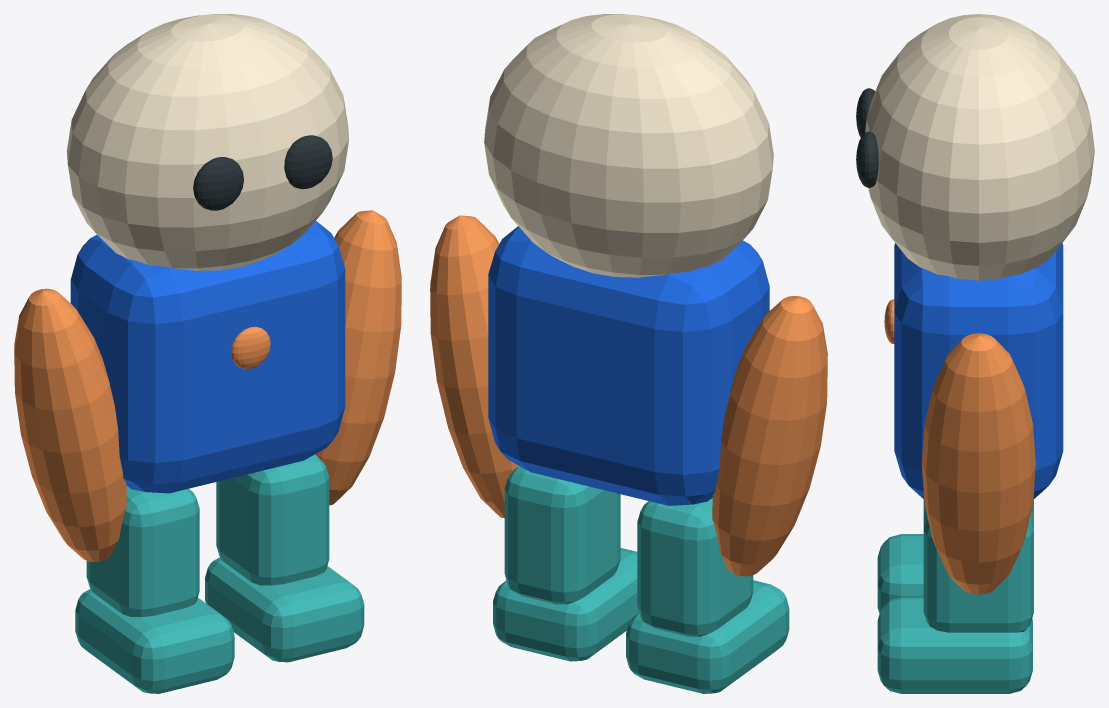
File: revision-model.glb
3 views of the same model, side by side, from view 1: azimuth 30°, elevation 25°; view 2: azimuth 150°, elevation 25°; view 3: azimuth 270°, elevation 25° (orthographic). The views are drawn at different scales.
Visible parts, largest first — view 1: Round cream head, Rounded vivid blue torso, Left long orange arm, Right long orange arm, Right sturdy leg, Left broad foot, Left sturdy leg, Right broad foot, Left dark circular eye, Right dark circular eye, Orange chest button; view 2: Round cream head, Rounded vivid blue torso, Left long orange arm, Right long orange arm, Right sturdy leg, Left sturdy leg, Left broad foot, Right broad foot; view 3: Round cream head, Right long orange arm, Rounded vivid blue torso, Right broad foot, Right sturdy leg, Left broad foot, Right dark circular eye, Left dark circular eye, Orange chest button.
Part boxes in pixels (left/top/right/bottom): Round cream head: left=66, top=14, right=349, bottom=270; Rounded vivid blue torso: left=70, top=221, right=345, bottom=493; Left long orange arm: left=14, top=288, right=126, bottom=562; Right long orange arm: left=315, top=210, right=401, bottom=505; Right sturdy leg: left=216, top=454, right=329, bottom=585; Left broad foot: left=75, top=589, right=234, bottom=693; Left sturdy leg: left=86, top=485, right=199, bottom=617; Right broad foot: left=205, top=557, right=364, bottom=662; Left dark circular eye: left=193, top=157, right=243, bottom=210; Right dark circular eye: left=284, top=135, right=332, bottom=189; Orange chest button: left=231, top=326, right=270, bottom=369; Round cream head: left=484, top=14, right=773, bottom=277; Rounded vivid blue torso: left=488, top=226, right=769, bottom=505; Left long orange arm: left=712, top=296, right=827, bottom=576; Right long orange arm: left=430, top=215, right=518, bottom=518; Right sturdy leg: left=504, top=466, right=620, bottom=604; Left sturdy leg: left=637, top=498, right=753, bottom=636; Left broad foot: left=626, top=580, right=789, bottom=693; Right broad foot: left=493, top=548, right=639, bottom=661; Round cream head: left=865, top=14, right=1094, bottom=280; Right long orange arm: left=922, top=333, right=1035, bottom=594; Rounded vivid blue torso: left=894, top=243, right=1063, bottom=498; Right broad foot: left=877, top=597, right=1032, bottom=693; Right sturdy leg: left=923, top=509, right=1033, bottom=632; Left broad foot: left=877, top=534, right=923, bottom=613; Right dark circular eye: left=856, top=131, right=878, bottom=187; Left dark circular eye: left=856, top=88, right=875, bottom=137; Orange chest button: left=884, top=299, right=894, bottom=343.
Bounding box in the file's own units: 2.2 × 3.46 × 1.21.
